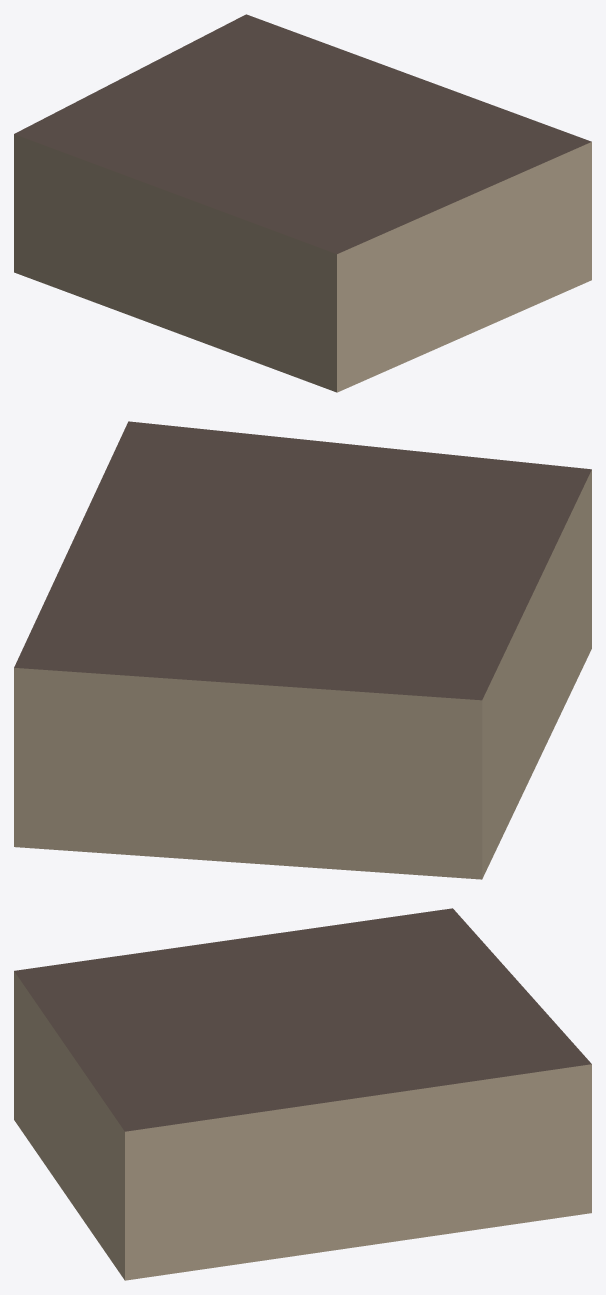
3 views of the same model, one above another, from view 1: azimuth 30°, elevation 25°; view 2: azimuth 150°, elevation 25°; view 3: azimuth 270°, elevation 25° (orthographic). The views are drawn at different scales.
Parts seen in each view (by area): view 1: HP-w1197008143; view 2: HP-w1197008143; view 3: HP-w1197008143.
Part boxes in pixels (bbox=[...]): HP-w1197008143: bbox=[14, 14, 591, 392]; HP-w1197008143: bbox=[14, 421, 591, 879]; HP-w1197008143: bbox=[14, 908, 591, 1280].
Bounding box in the file's own units: 28.96 × 9 × 31.65.
